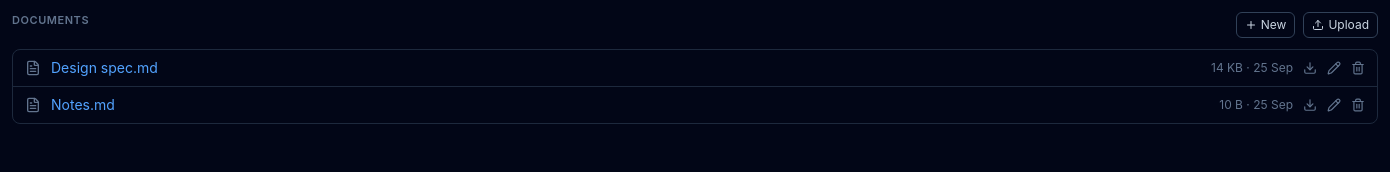
Test: DocumentsSection › checks a new name before asking the server
Click the button named "Rename Design spec.md": {"x": 1334, "y": 68} [1327,60,1341,74]
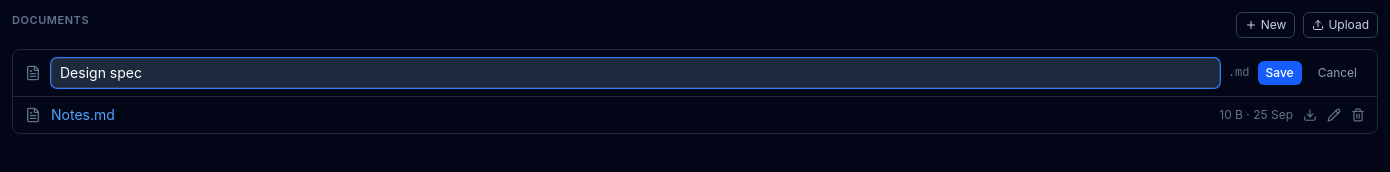
Replace the text in the field named "Document name" with "plan.md": {"x": 635, "y": 72} [51,58,1220,88]
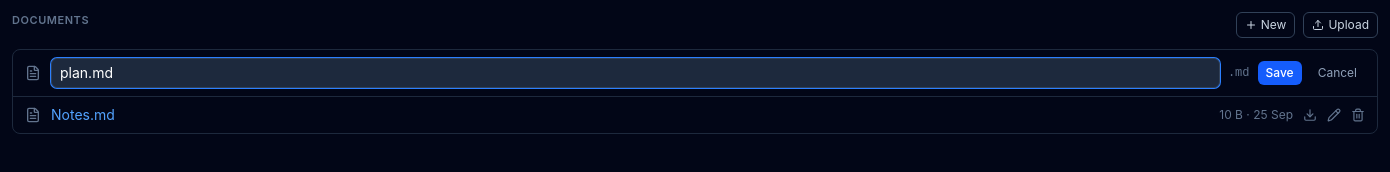
Submit the form from the field named "Document name", box [51,58,1220,88]
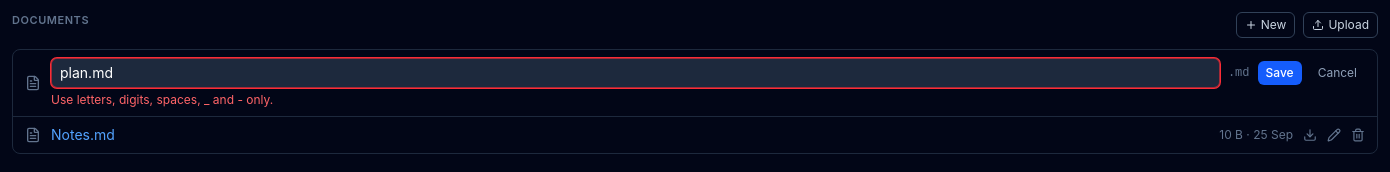
Expected: the message reads "Use letters, digits, spaces, _ and - only.", [51,92,273,106]
Replace the text in the field named "Document name" with "notes": {"x": 635, "y": 72} [51,58,1220,88]
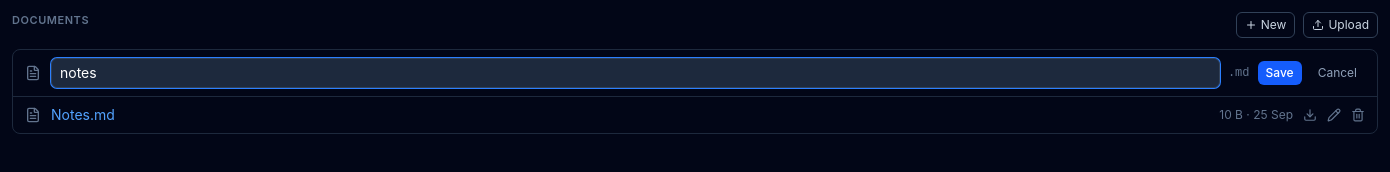
Submit the form from the field named "Document name", box [51,58,1220,88]
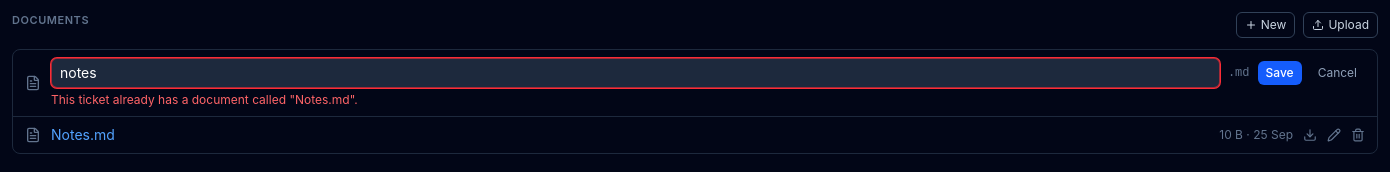
Expected: the message reads "This ticket already has a document called \"Notes.md\".", [51,92,358,106]
